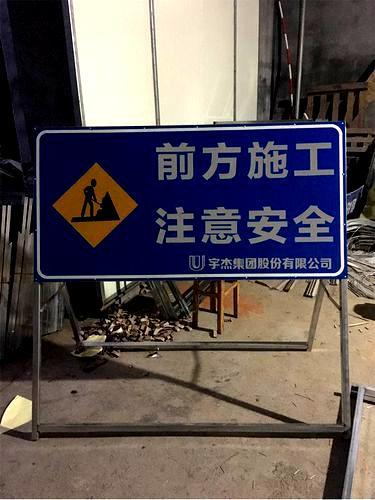sign: (33, 125, 349, 279)
